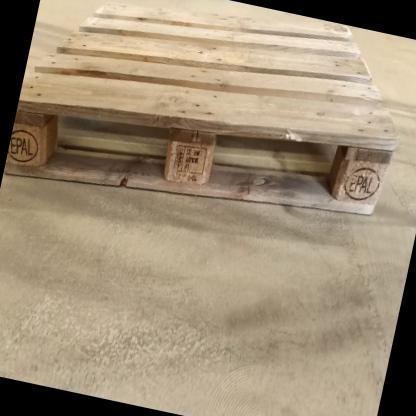BoxFace: (3, 0, 402, 221)
